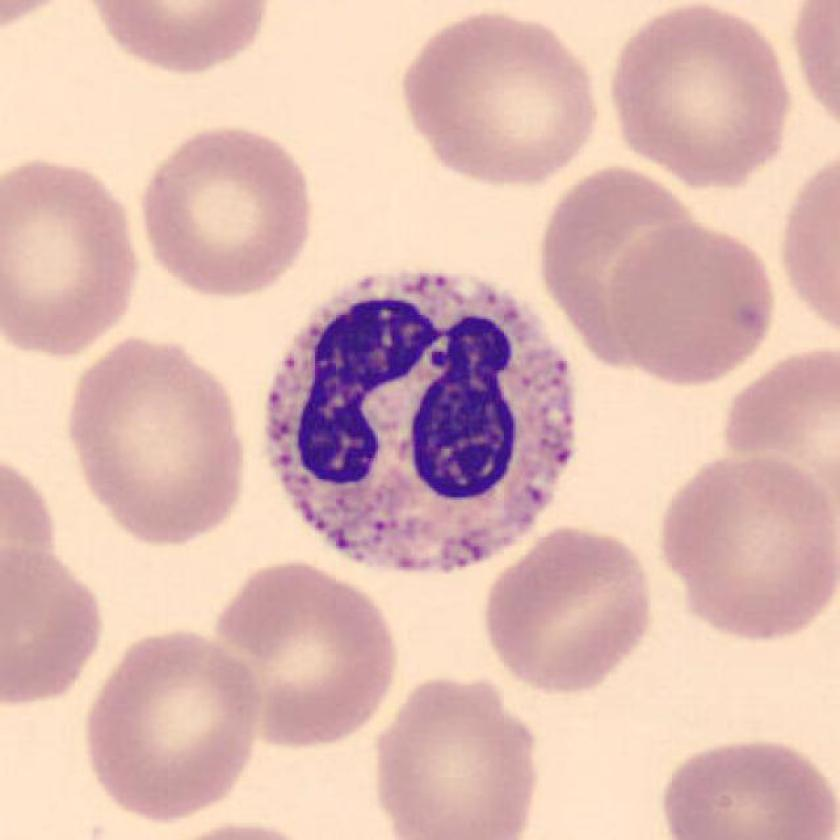neutrophil: (267, 270, 576, 575)
